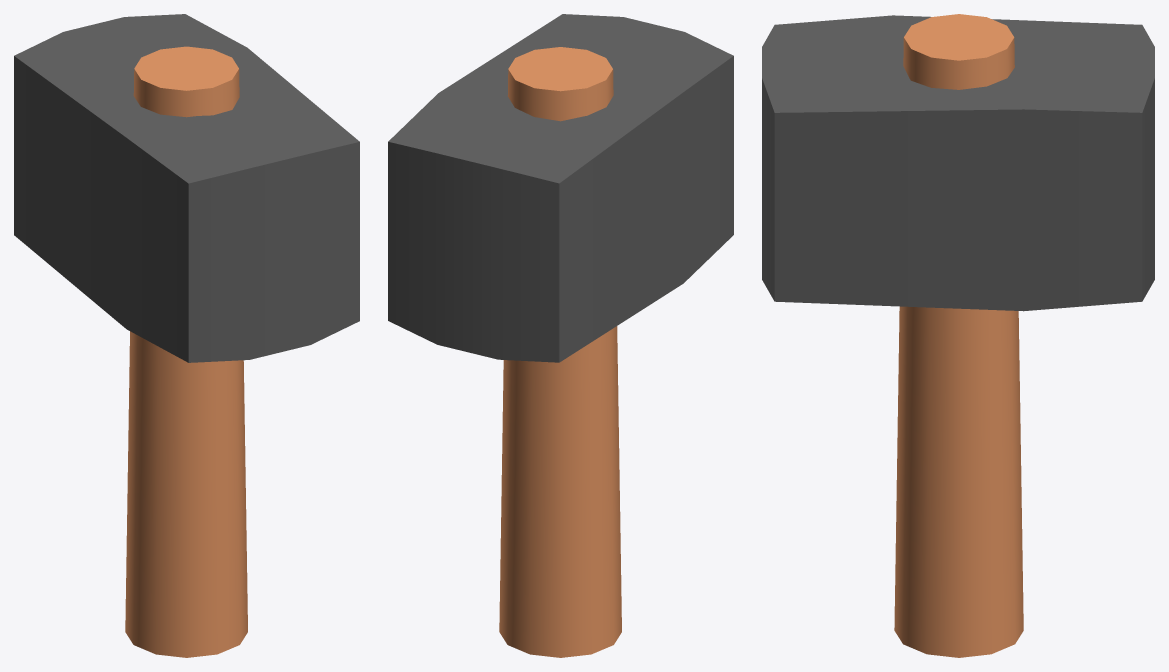
Rendered from Hammer.fbx.
3 views of the same model, side by side, from view 1: azimuth 30°, elevation 25°; view 2: azimuth 150°, elevation 25°; view 3: azimuth 270°, elevation 25° (orthographic). The views are drawn at different scales.
Parts seen in each view (by area): view 1: Hammer; view 2: Hammer; view 3: Hammer.
Boxes of the visible parts, <box> form: Hammer: <box>14,14,359,657</box>; Hammer: <box>388,14,733,657</box>; Hammer: <box>762,14,1154,657</box>.
Size of the model in its own units: 29.8 by 87.66 by 52.59.
